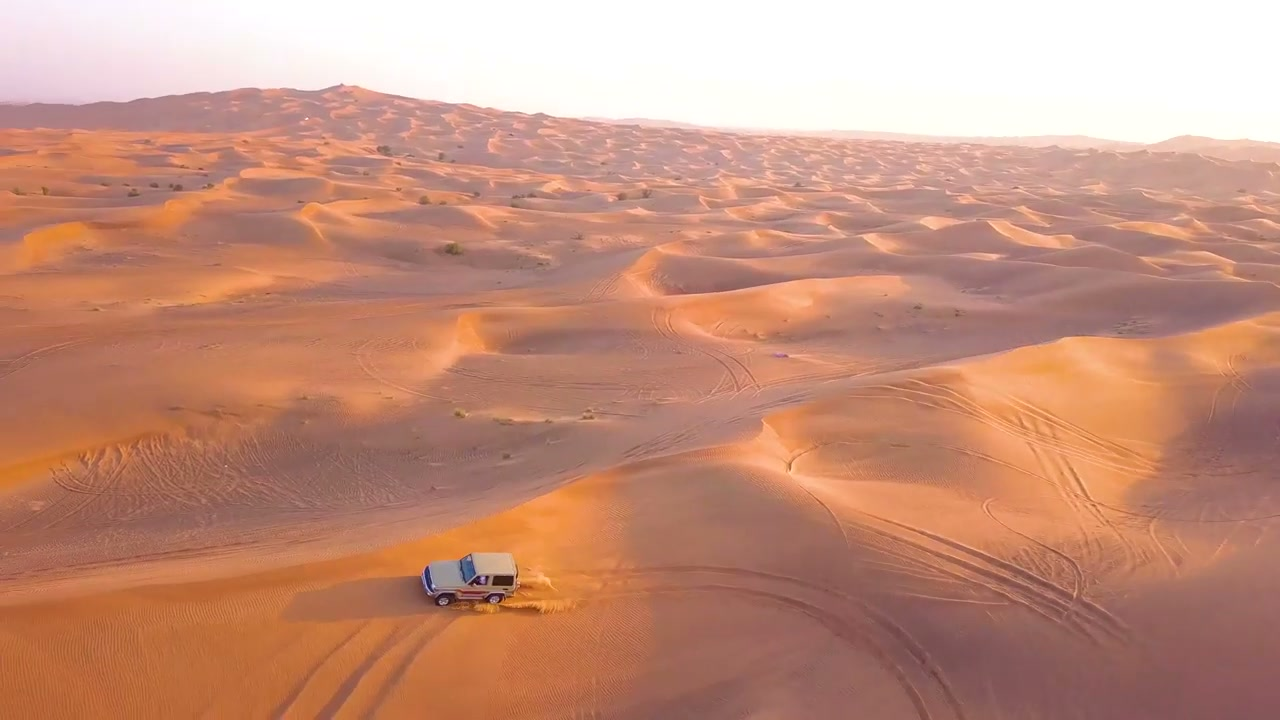vehicle_track: (553, 564, 966, 719)
